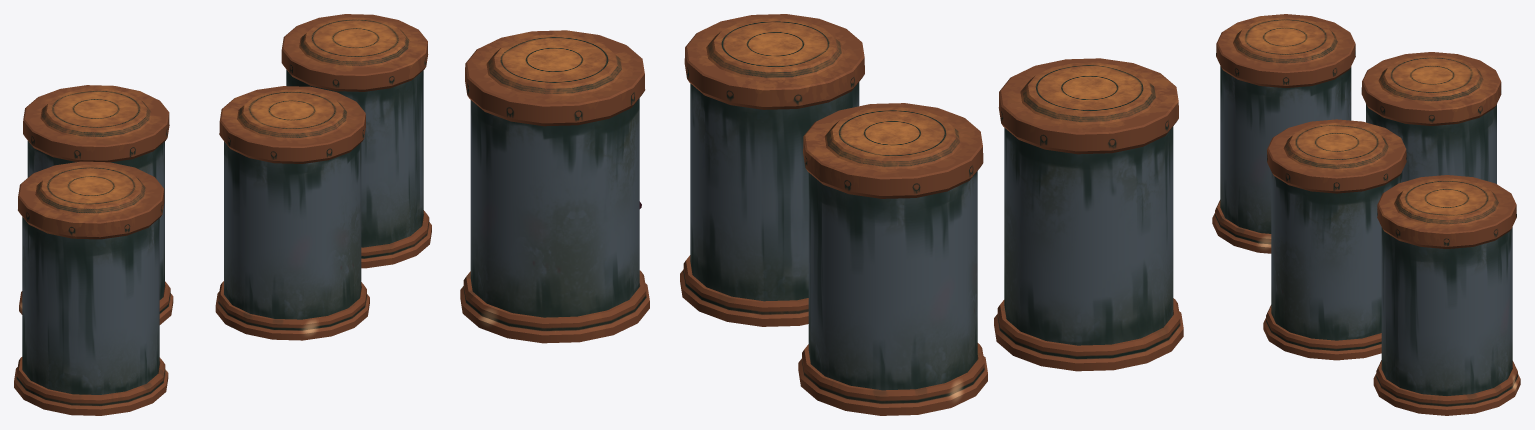
The model's file is Jar.FBX.
3 views of the same model, side by side, from view 1: azimuth 30°, elevation 25°; view 2: azimuth 150°, elevation 25°; view 3: azimuth 270°, elevation 25° (orthographic). The views are drawn at different scales.
Parts seen in each view (by area): view 1: Object051, Object053, Object052, Object050; view 2: Object050, Object052, Object053, Object051; view 3: Object052, Object051, Object053, Object050.
Part boxes in pixels (x1=…): Object051: x1=215, y1=86, x2=369, y2=340; Object053: x1=14, y1=161, x2=168, y2=415; Object052: x1=281, y1=14, x2=431, y2=268; Object050: x1=19, y1=85, x2=173, y2=324; Object050: x1=798, y1=103, x2=987, y2=415; Object052: x1=460, y1=30, x2=649, y2=343; Object053: x1=994, y1=58, x2=1183, y2=371; Object051: x1=680, y1=14, x2=864, y2=326; Object052: x1=1373, y1=175, x2=1520, y2=415; Object051: x1=1263, y1=119, x2=1406, y2=360; Object053: x1=1212, y1=14, x2=1355, y2=253; Object050: x1=1361, y1=52, x2=1501, y2=183.
Size of the model in its own units: 143 by 83.47 by 55.82.
